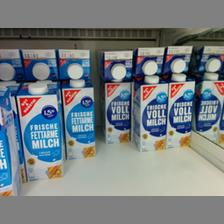Milch: (14, 80, 64, 178), (60, 79, 98, 157), (132, 72, 164, 152), (166, 74, 195, 148), (102, 82, 131, 146)
